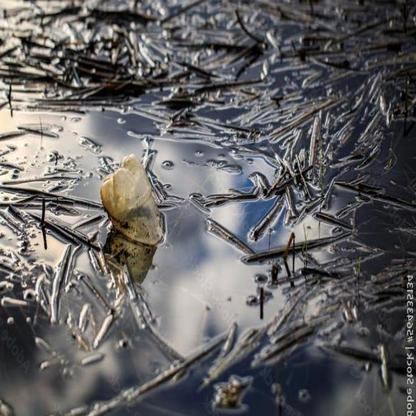plastic bottle: (99, 153, 163, 244)
